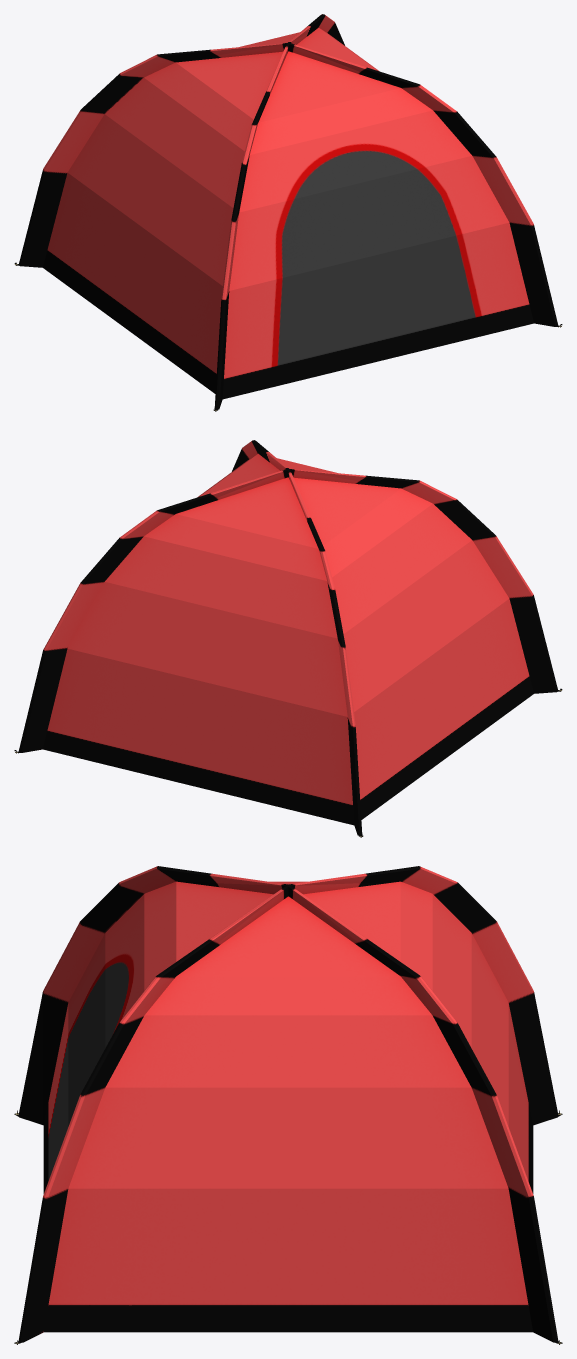
File: tent_03.fbx
3 views of the same model, one above another, from view 1: azimuth 30°, elevation 25°; view 2: azimuth 150°, elevation 25°; view 3: azimuth 270°, elevation 25° (orthographic). The views are drawn at different scales.
Visible parts, largest first — view 1: Cube.002; view 2: Cube.002; view 3: Cube.002.
Boxes of the visible parts, <box> form: Cube.002: <box>14,14,562,411</box>; Cube.002: <box>14,440,562,837</box>; Cube.002: <box>14,866,562,1344</box>.
Bounding box in the file's own units: 224 × 155 × 224.
1 material, 1 textured.
